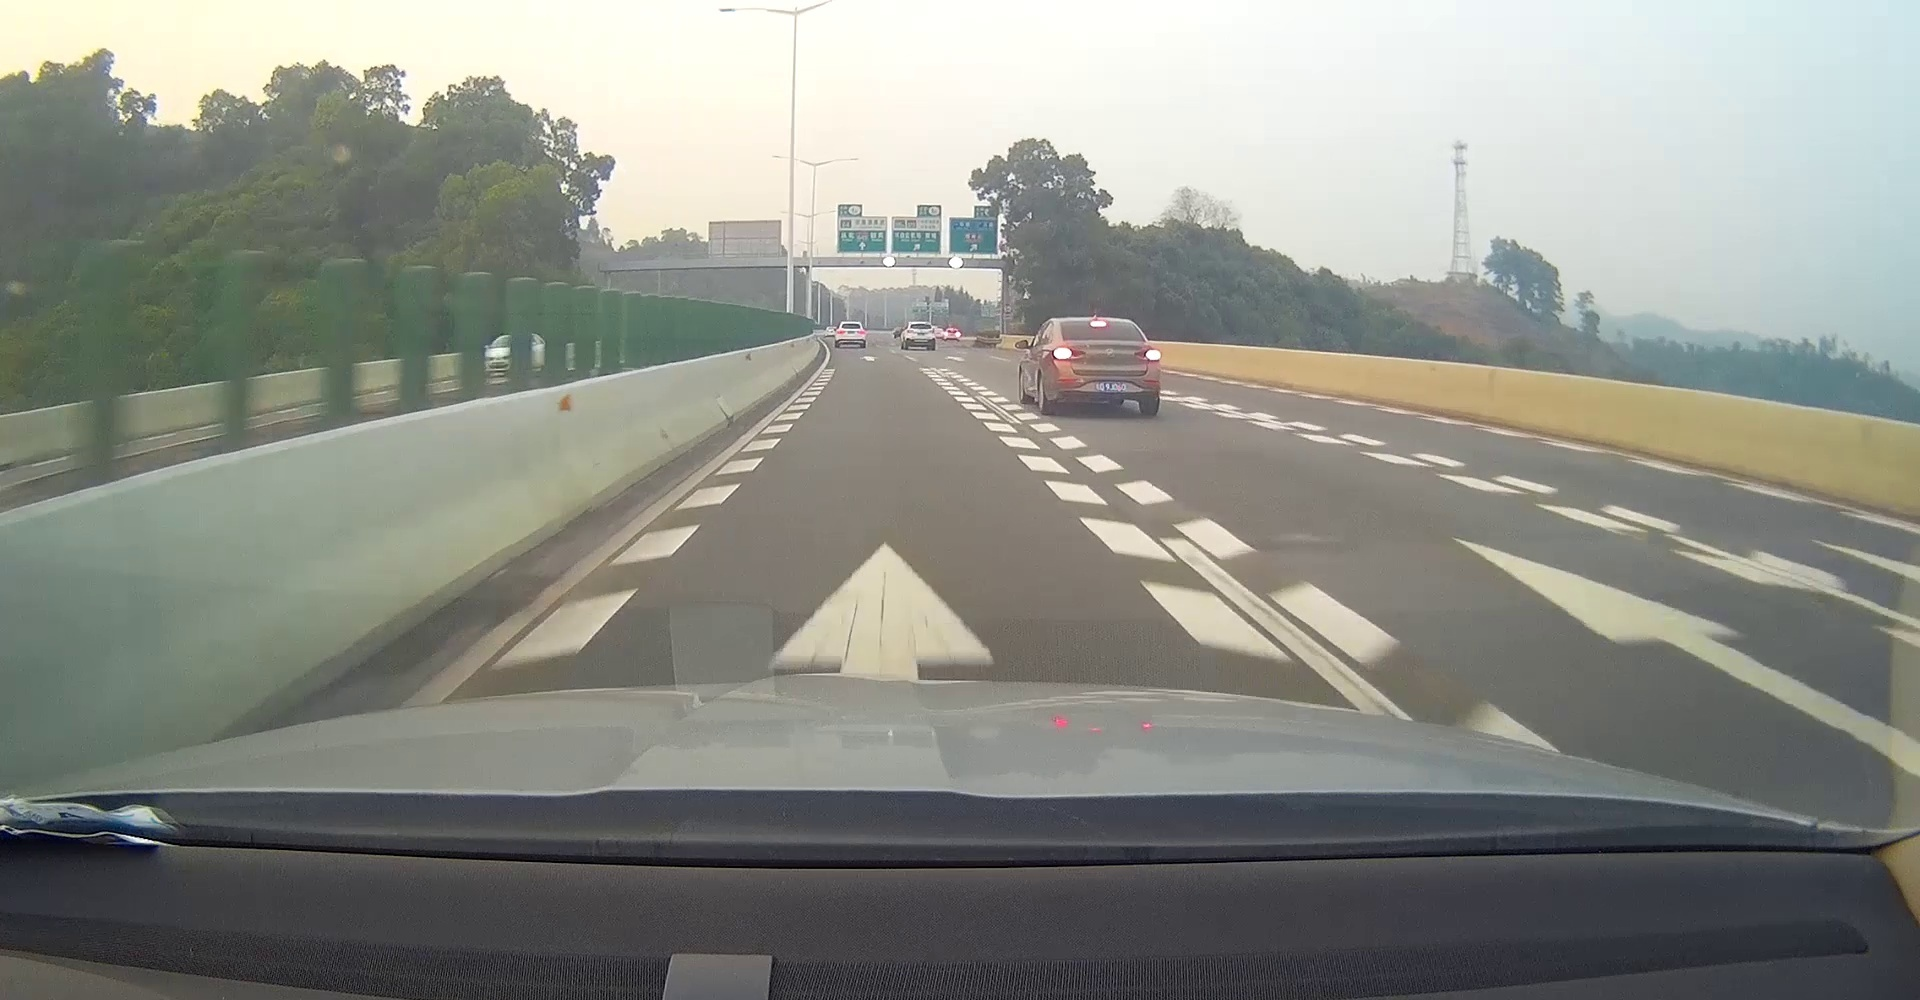L_light: (1053, 348, 1084, 359), (837, 330, 844, 334), (907, 330, 914, 332)
R_light: (1135, 349, 1159, 360), (857, 330, 865, 332), (928, 330, 935, 332)
T_light: (1090, 322, 1106, 326), (919, 324, 924, 326), (850, 324, 853, 325)
day-brake: (1050, 319, 1161, 415)
day-no: (905, 322, 935, 350), (836, 322, 866, 348)
